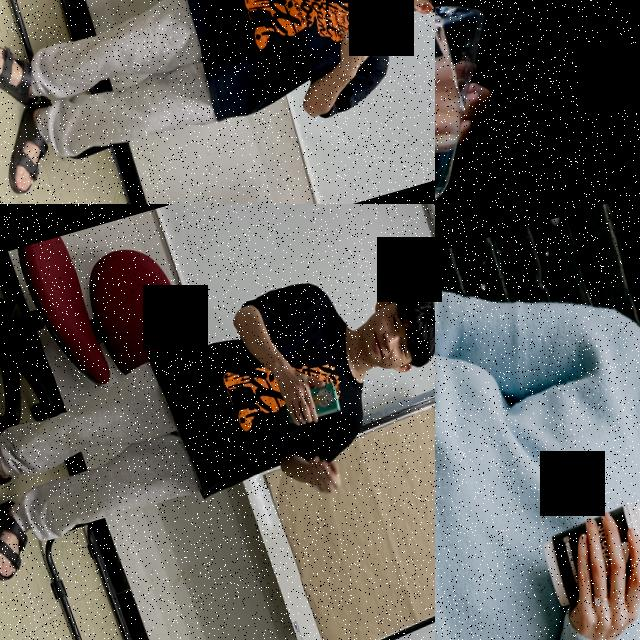bottle: (435, 0, 541, 204)
cup: (531, 495, 640, 626)
